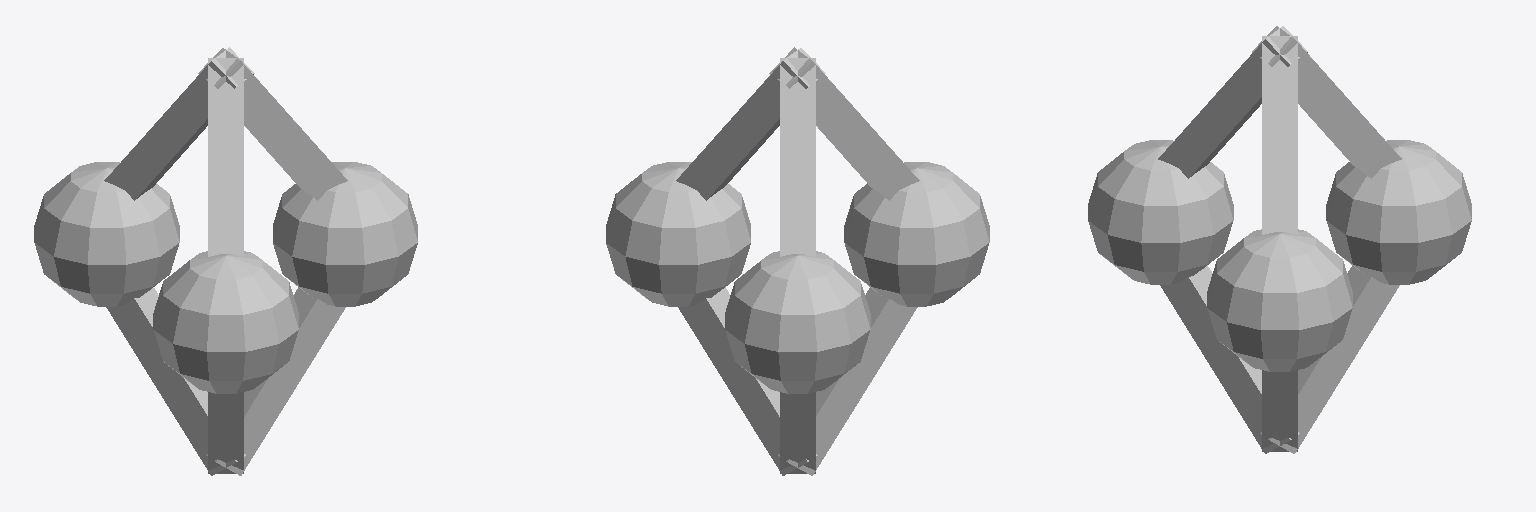
File: steam_engine_no_idea_what_these_are_mirrored.obj
3 views of the same model, side by side, from view 1: azimuth 30°, elevation 25°; view 2: azimuth 150°, elevation 25°; view 3: azimuth 270°, elevation 25° (orthographic).
Parts seen in each view (by area): view 1: sphere, cube; view 2: sphere, cube; view 3: sphere, cube.
Part boxes in pixels (bbox=[...]): sphere: bbox=[34, 162, 417, 393]; cube: bbox=[104, 47, 347, 475]; sphere: bbox=[606, 162, 989, 393]; cube: bbox=[676, 47, 919, 475]; sphere: bbox=[1088, 140, 1471, 371]; cube: bbox=[1158, 26, 1401, 453].
Size of the model in its own units: 0.3023 by 0.394 by 0.3297.